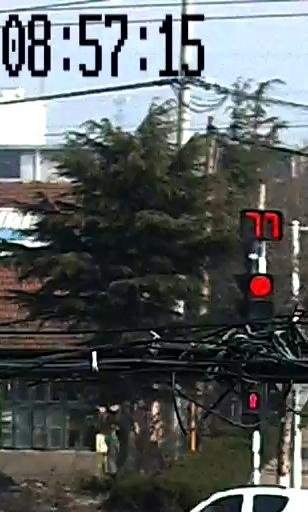red: (251, 273, 275, 302)
redpeople: (245, 394, 261, 414)
redtime: (245, 206, 283, 239)
